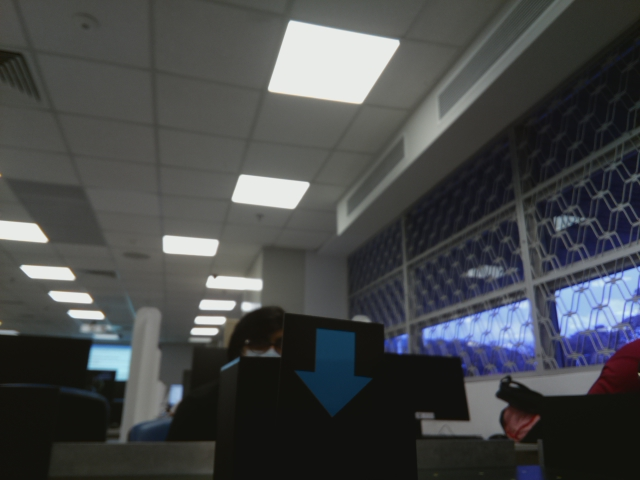down: (293, 324, 380, 417)
